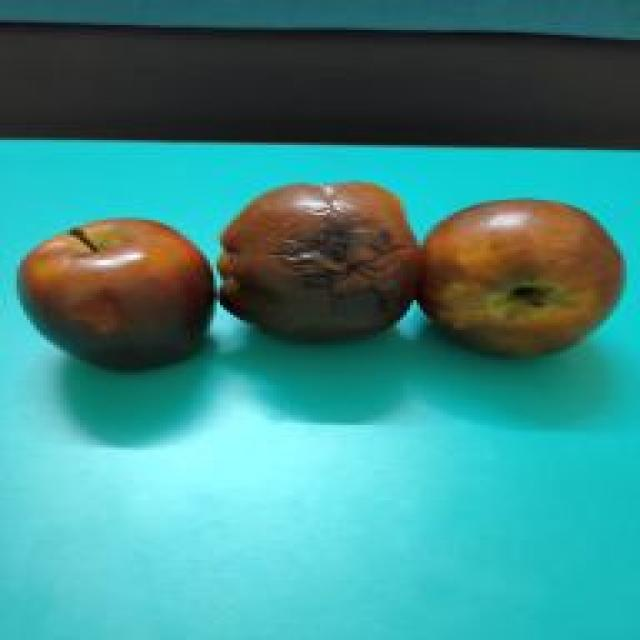Bad_Apple: (222, 184, 422, 339)
